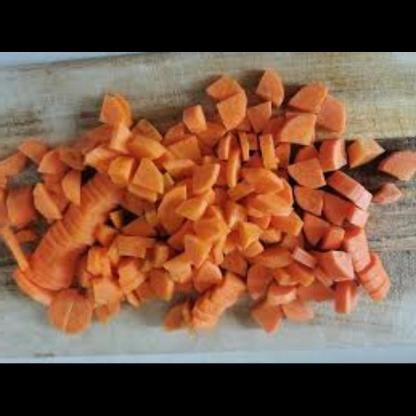carrot: (11, 81, 402, 323)
